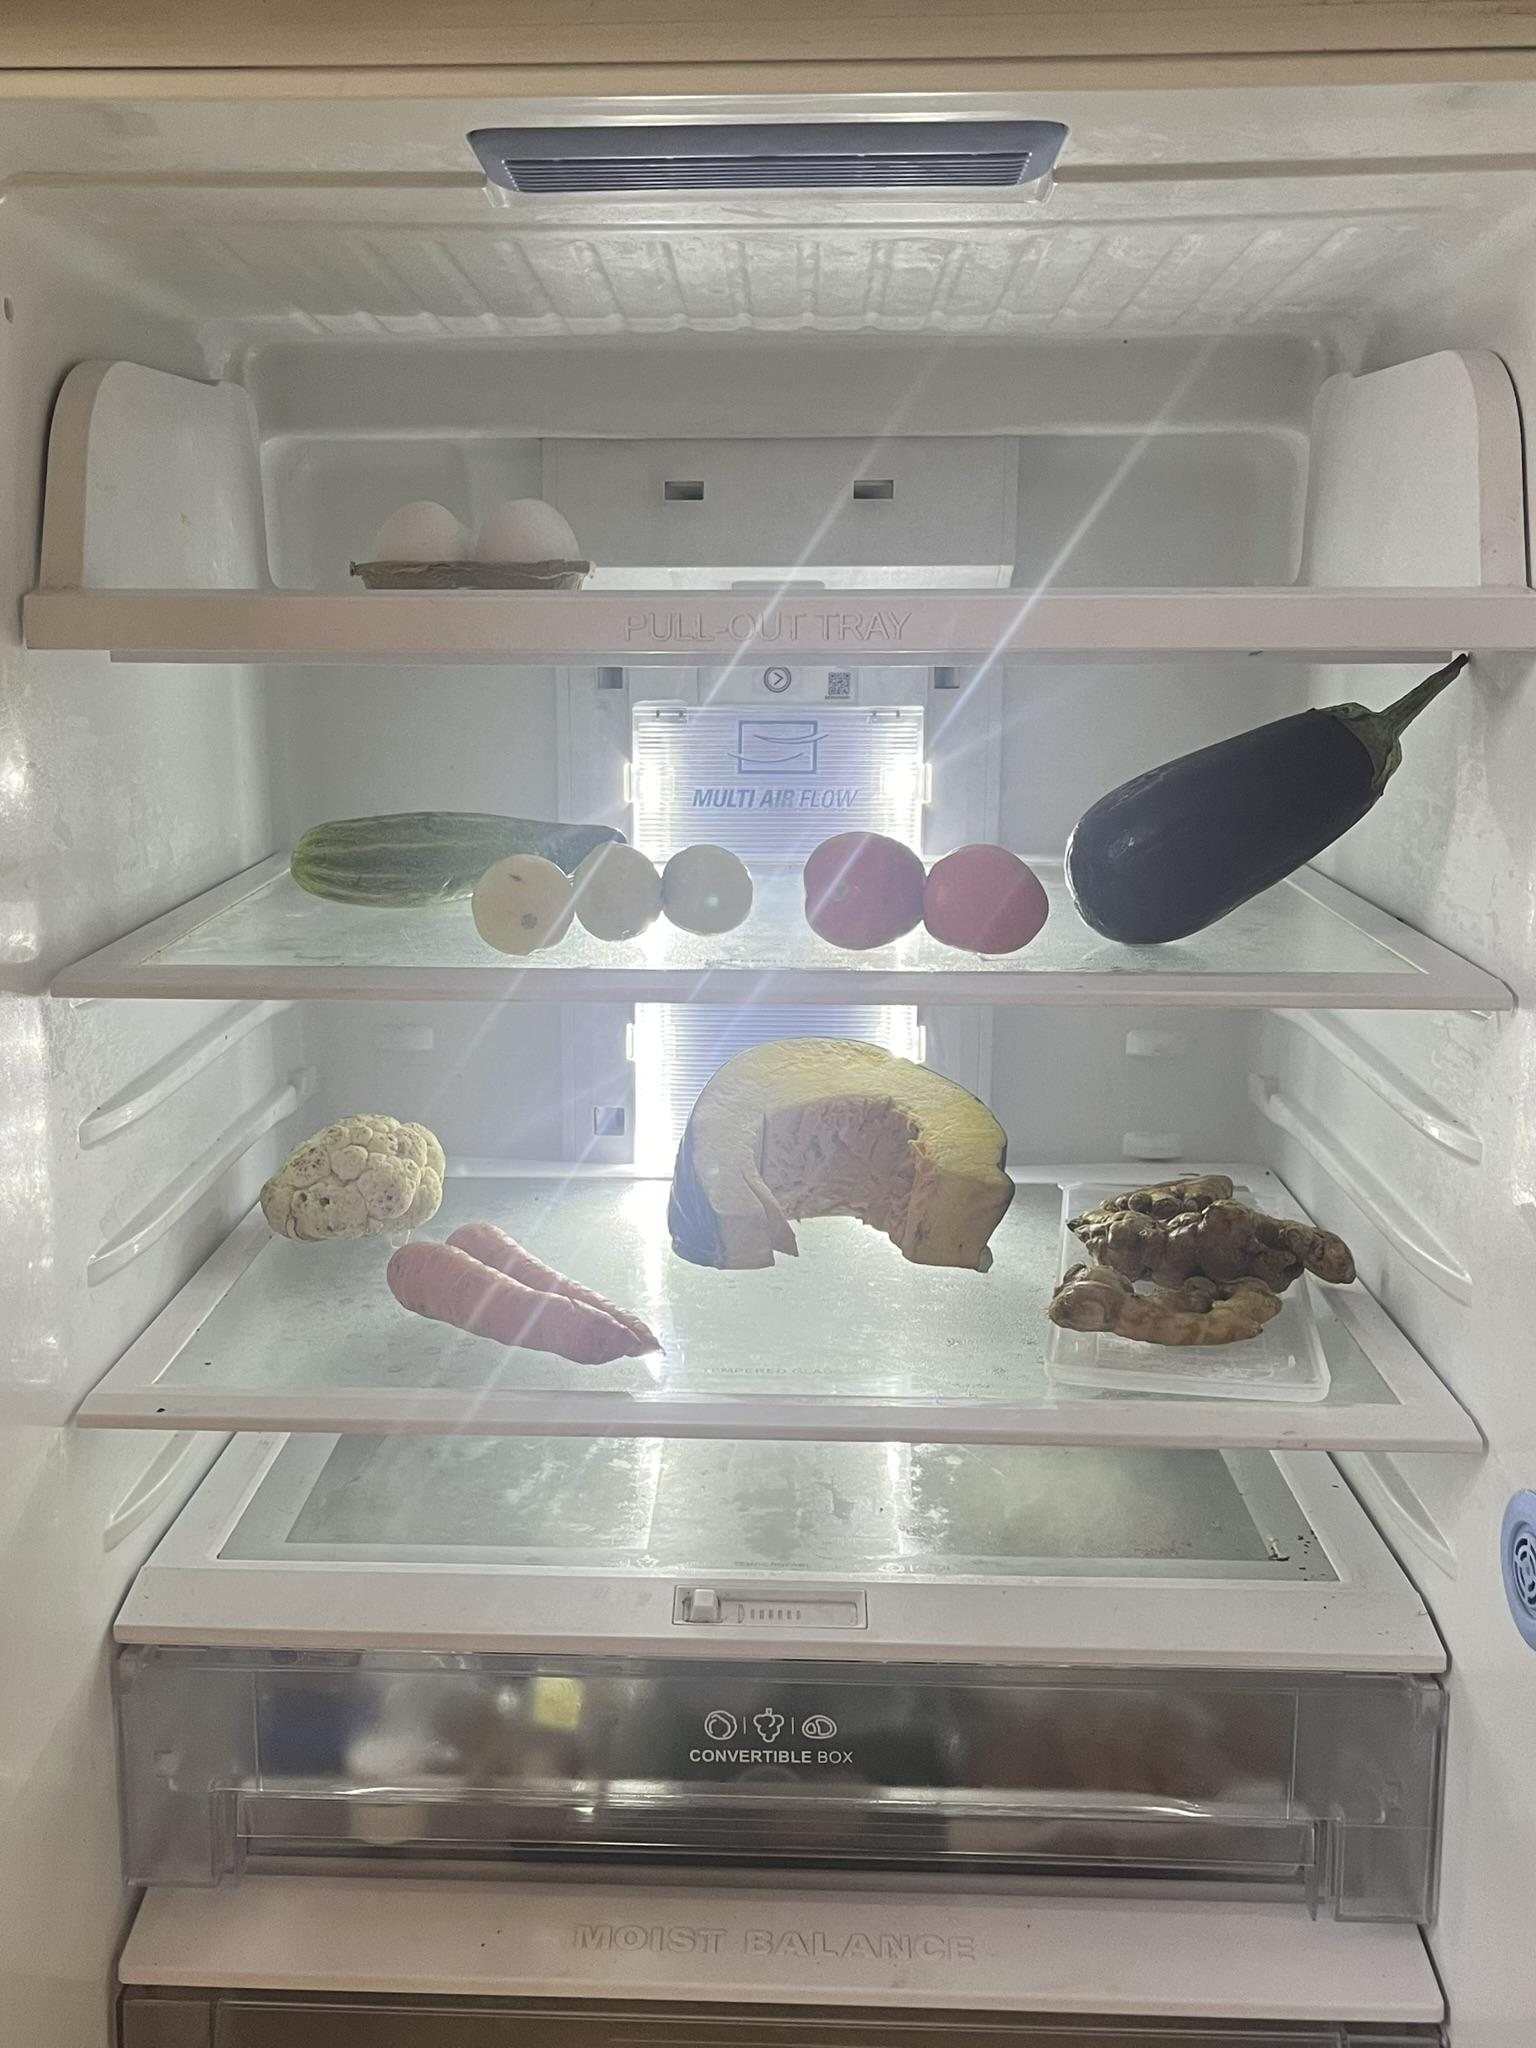bringal: (1063, 647, 1467, 947)
carrots: (381, 1221, 666, 1366)
cauliflower: (257, 1116, 460, 1250)
cucumber: (290, 816, 634, 900)
egg: (366, 487, 591, 590)
ginger: (1057, 1166, 1370, 1353)
lemon: (470, 850, 576, 956), (660, 837, 750, 940), (579, 837, 657, 953)
pumpkin: (676, 1040, 1010, 1274)
tomato: (926, 837, 1054, 950), (807, 830, 923, 953)
